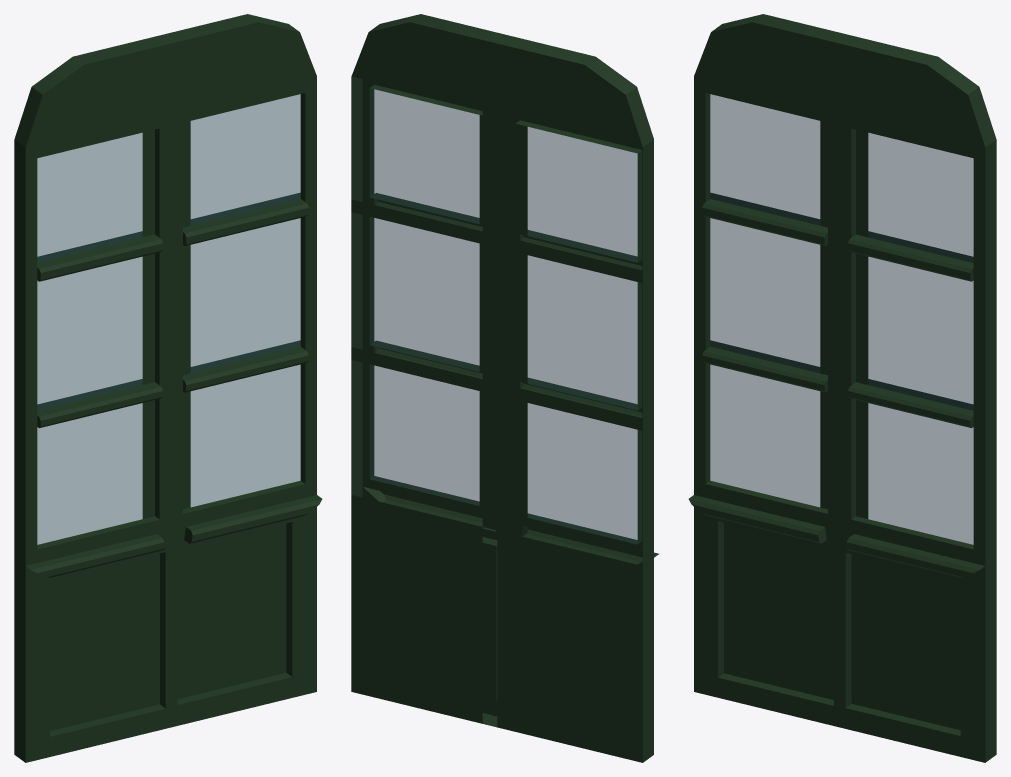
The model's file is Door.fbx.
3 views of the same model, side by side, from view 1: azimuth 30°, elevation 25°; view 2: azimuth 150°, elevation 25°; view 3: azimuth 330°, elevation 25° (orthographic).
Parts seen in each view (by area): view 1: Mystery_Door2; view 2: Mystery_Door2; view 3: Mystery_Door2.
Boxes of the visible parts, x1=… form: Mystery_Door2: x1=14, y1=14, x2=322, y2=762; Mystery_Door2: x1=351, y1=14, x2=658, y2=762; Mystery_Door2: x1=688, y1=14, x2=996, y2=762.
Bounding box in the file's own units: 15 × 33.64 × 1.64.
